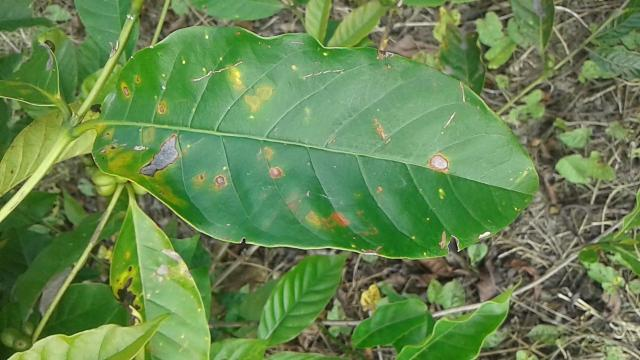rust_level_4: (81, 30, 533, 262)
